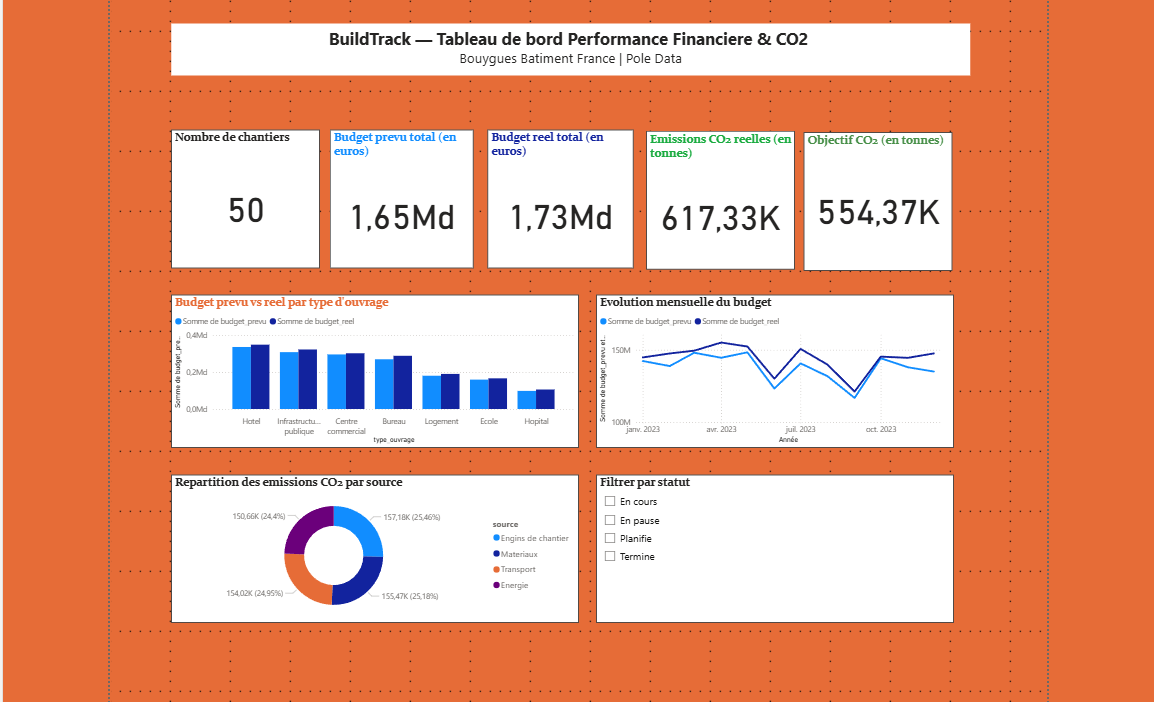

What the dashboard file says about the page in this screenshot:
{"tool":"powerbi","page":{"name":"Page 1","canvas":[1500,1200],"ordinal":0},"visuals":[{"type":"card","title":"Nombre de chantiers","fields":{"Values":["CountNonNull(Sheet1.id_chantier)"]},"box":[98,253.1,237.9,221.2],"z":0},{"type":"card","title":"Budget prevu total (en euros)","fields":{"Values":["Sum(Sheet1 (3).budget_prevu)"]},"box":[352.6,254.5,229.6,221.2],"z":1000},{"type":"card","title":"Budget reel total (en euros)","fields":{"Values":["Sum(Sheet1 (3).budget_reel)"]},"box":[603.1,254.5,233.7,221.2],"z":2000},{"type":"card","title":"Emissions CO2 reelles (en tonnes)","fields":{"Values":["Sum(Sheet1 (2).tonnes_co2)"]},"box":[857.7,255.9,237.9,221.2],"z":3000},{"type":"card","title":"Objectif CO2 (en tonnes)","fields":{"Values":["Sum(Sheet1 (2).objectif_co2)"]},"box":[1110.9,257.3,237.9,221.2],"z":4000},{"type":"clusteredColumnChart","title":"Budget prevu vs reel par type d''ouvrage","fields":{"Category":["Sheet1 (3).type_ouvrage"],"Y":["Sum(Sheet1 (3).budget_prevu)","Sum(Sheet1 (3).budget_reel)"]},"box":[98.3,518.3,651.7,245],"z":5000},{"type":"lineChart","title":"Evolution mensuelle du budget","fields":{"Y":["Sum(Sheet1 (3).budget_prevu)","Sum(Sheet1 (3).budget_reel)"],"Category":["Sheet1 (3).mois.Variation.Hiérarchie de dates.Année","Sheet1 (3).mois.Variation.Hiérarchie de dates.Trimestre","Sheet1 (3).mois.Variation.Hiérarchie de dates.Mois","Sheet1 (3).mois.Variation.Hiérarchie de dates.Jour"]},"box":[778.3,518.3,571.7,245],"z":6000},{"type":"donutChart","title":"Repartition des emissions CO2 par source","fields":{"Category":["Sheet1 (2).source"],"Y":["Sum(Sheet1 (2).tonnes_co2)"]},"box":[98.3,806.7,651.7,236.7],"z":7000},{"type":"slicer","title":"Filtrer par statut","fields":{"Values":["Sheet1 (3).statut"]},"box":[778.3,806.7,571.7,236.7],"z":8000},{"type":"textbox","box":[98.3,83.3,1278.3,83.3],"z":9000}]}

Visuals, with their boxes in screenshot pixels (x1, y1, x2, y2):
"Nombre de chantiers" card: <box>172,127,319,264</box>
"Budget prevu total (en euros)" card: <box>330,127,472,264</box>
"Budget reel total (en euros)" card: <box>485,127,629,264</box>
"Emissions CO2 reelles (en tonnes)" card: <box>642,128,790,265</box>
"Objectif CO2 (en tonnes)" card: <box>799,129,946,266</box>
"Budget prevu vs reel par type d''ouvrage" clusteredColumnChart: <box>172,291,576,442</box>
"Evolution mensuelle du budget" lineChart: <box>593,291,947,442</box>
"Repartition des emissions CO2 par source" donutChart: <box>172,469,576,616</box>
"Filtrer par statut" slicer: <box>593,469,947,616</box>
textbox: <box>172,21,963,73</box>
